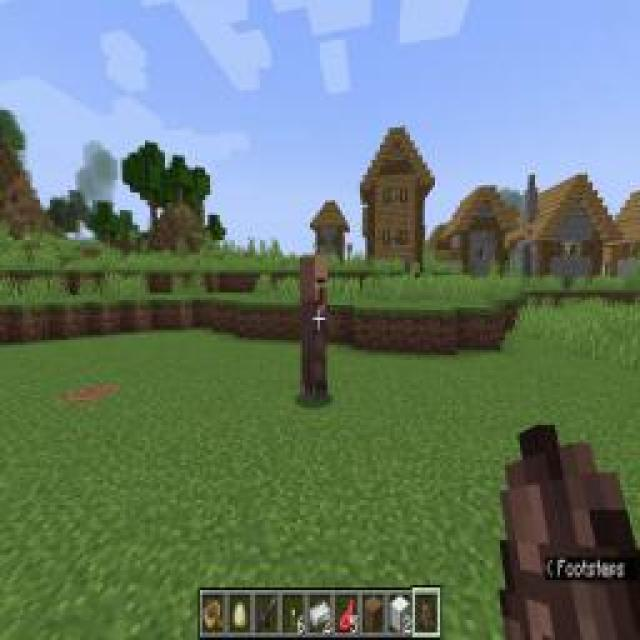Villager House: (298, 250, 338, 410)
